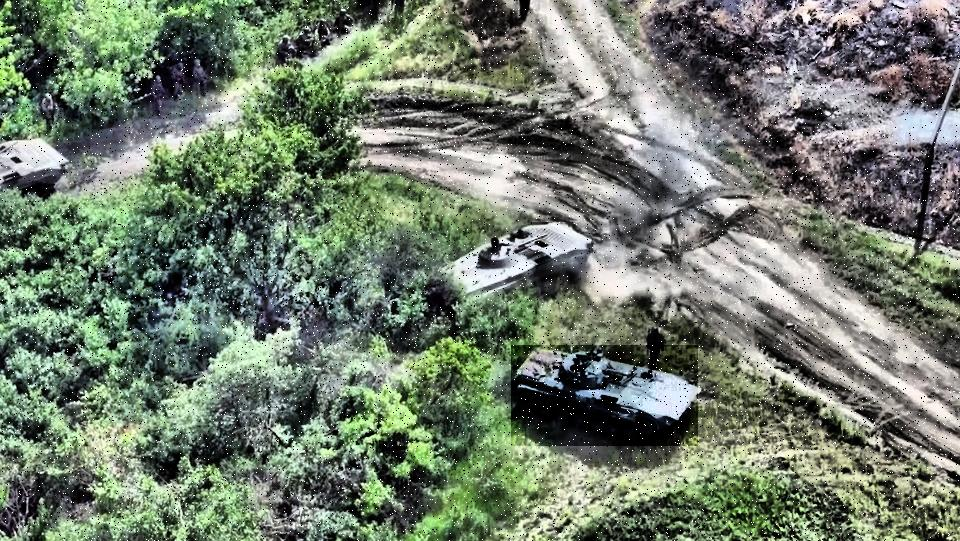military-vehicle: (512, 345, 699, 446), (436, 223, 592, 314)
